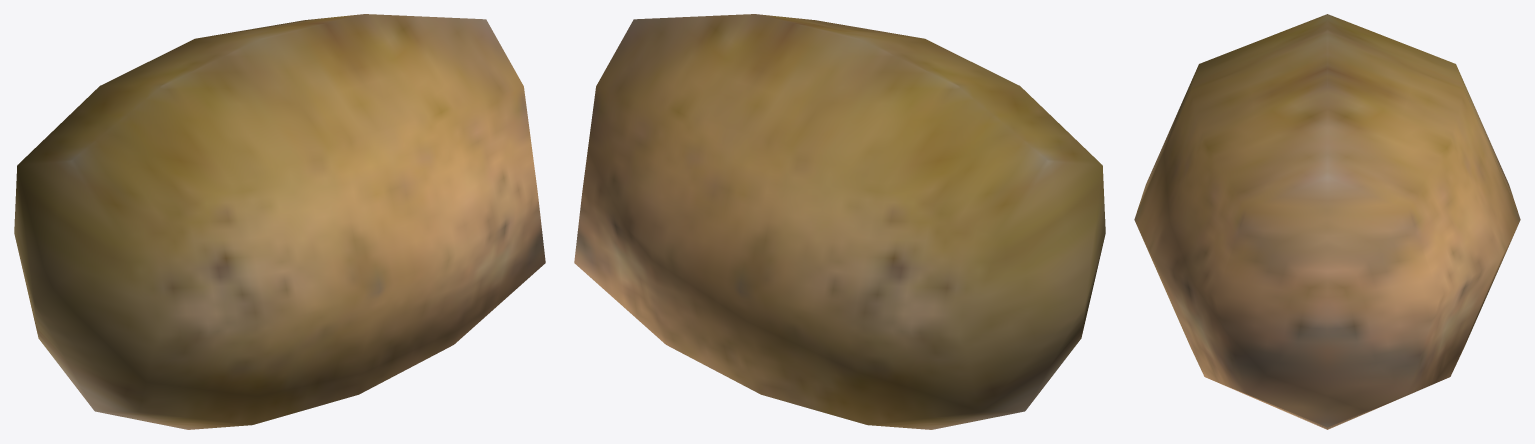
File: potato.FBX
The picture shows the model from 3 angles, left to right: view 1: azimuth 30°, elevation 25°; view 2: azimuth 150°, elevation 25°; view 3: azimuth 270°, elevation 25°; orthographic projection. The views are drawn at different scales.
Visible parts, largest first — view 1: potato; view 2: potato; view 3: potato.
Boxes of the visible parts, box(x1,y1,x2,y2) form: potato: box(14, 14, 545, 429); potato: box(574, 14, 1105, 429); potato: box(1134, 14, 1520, 429).
Bounding box in the file's own units: 30.45 × 22.26 × 21.75.
